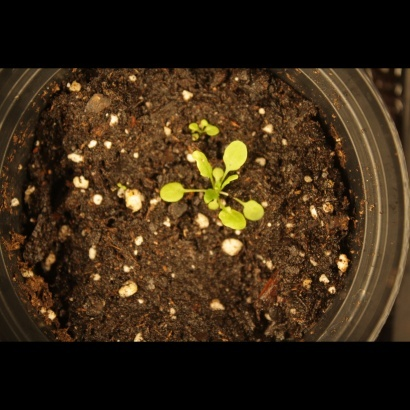leaf: (217, 201, 248, 235), (222, 139, 250, 173), (188, 147, 215, 182), (239, 198, 275, 224), (156, 181, 191, 204), (208, 116, 231, 139), (181, 115, 204, 138), (222, 171, 245, 194), (197, 185, 220, 208)
